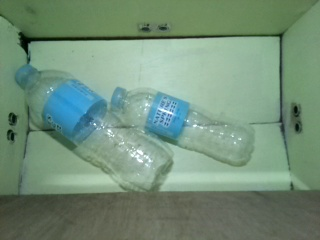bottle: (14, 64, 175, 192), (106, 86, 255, 165)
